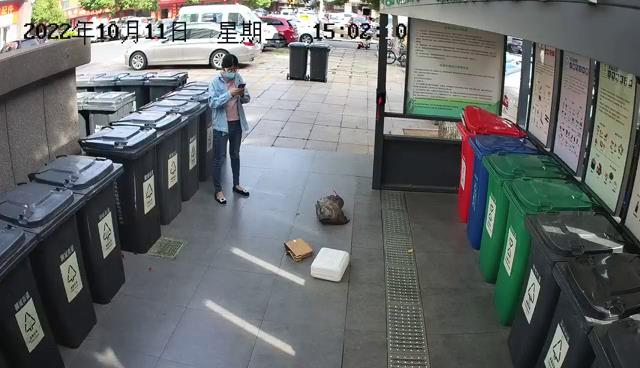paomozhipin: (310, 246, 351, 285)
suliaozhipin: (314, 189, 351, 227)
worker: (207, 53, 251, 205)
zhizhipin: (284, 237, 314, 265)
